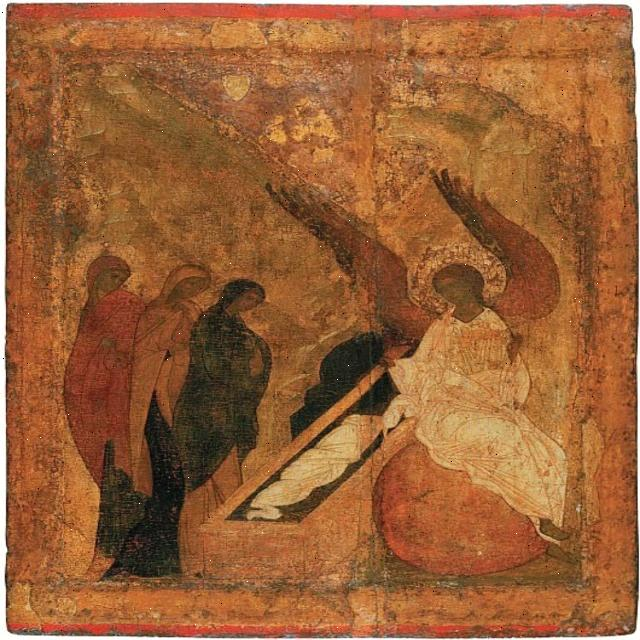angel: (255, 144, 599, 551)
aura: (411, 242, 506, 314), (66, 238, 150, 298)
saint: (172, 264, 279, 484), (129, 247, 208, 492), (68, 245, 148, 484)
stone_door: (382, 436, 551, 573)
tomb: (208, 353, 395, 581)
wing: (248, 168, 435, 346), (437, 168, 579, 329)
